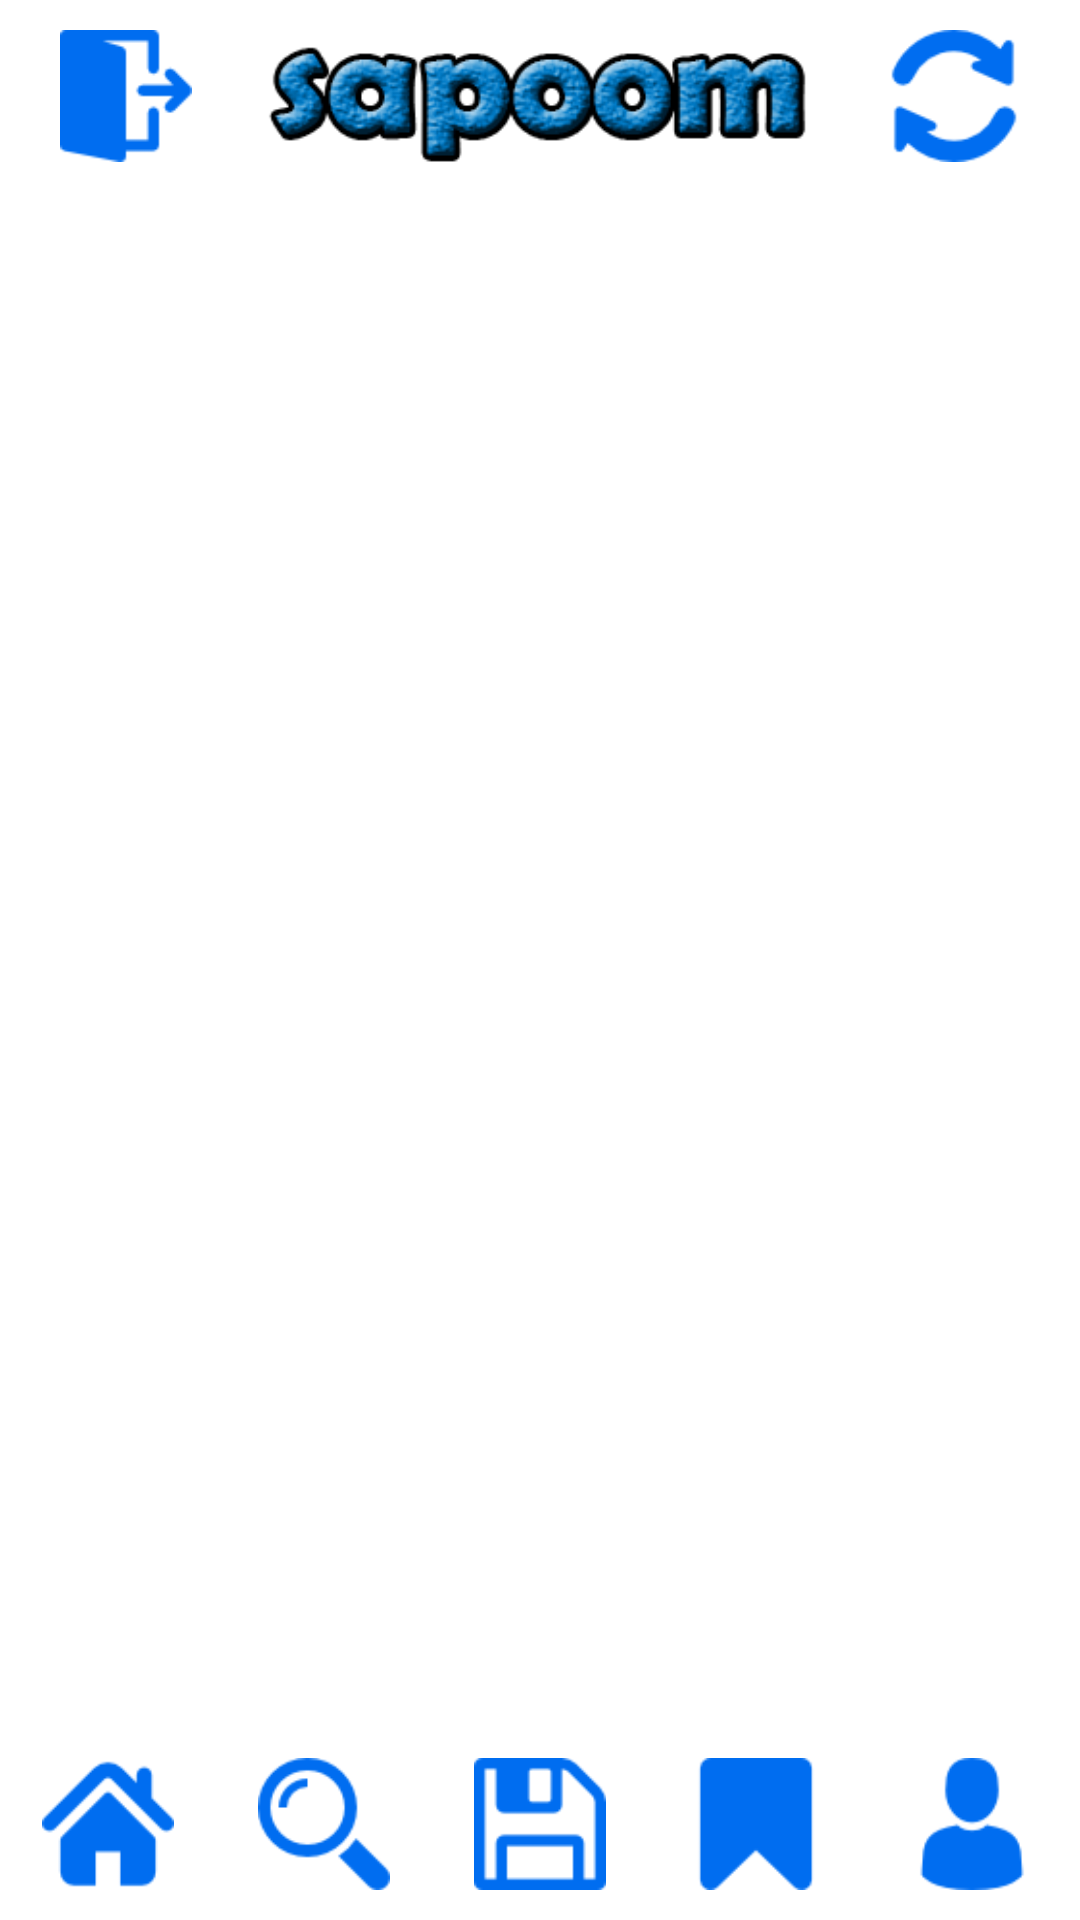

Screen size 1080*1920. Icon name, then its box in pixels as (x1, y1, x2, y2):
bookmark: (699, 1758, 813, 1890)
home: (42, 1761, 174, 1887)
mine: (920, 1758, 1024, 1890)
refresh: (891, 30, 1017, 162)
save: (474, 1758, 606, 1890)
search: (258, 1758, 390, 1890)
